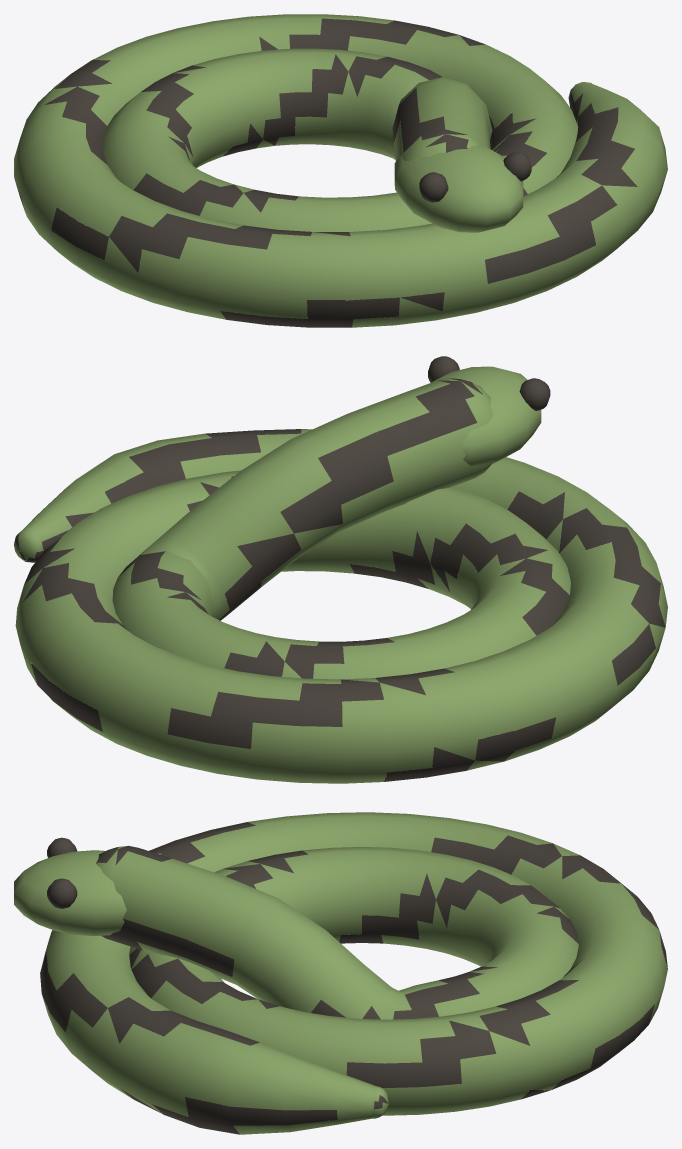
The model's file is rainforest-and-jungle-fauna-green-anaconda-coiled-0419ff97__21689.glb.
The picture shows the model from 3 angles, top to bottom: view 1: azimuth 30°, elevation 25°; view 2: azimuth 150°, elevation 25°; view 3: azimuth 270°, elevation 25°; orthographic projection. The views are drawn at different scales.
Visible parts, largest first — view 1: green-anaconda-coiled; view 2: green-anaconda-coiled; view 3: green-anaconda-coiled.
Boxes of the visible parts, bbox=[...] form: green-anaconda-coiled: bbox=[14, 14, 667, 327]; green-anaconda-coiled: bbox=[14, 356, 667, 783]; green-anaconda-coiled: bbox=[14, 812, 667, 1134].
Size of the model in its own units: 1.08 by 0.3156 by 1.1.
